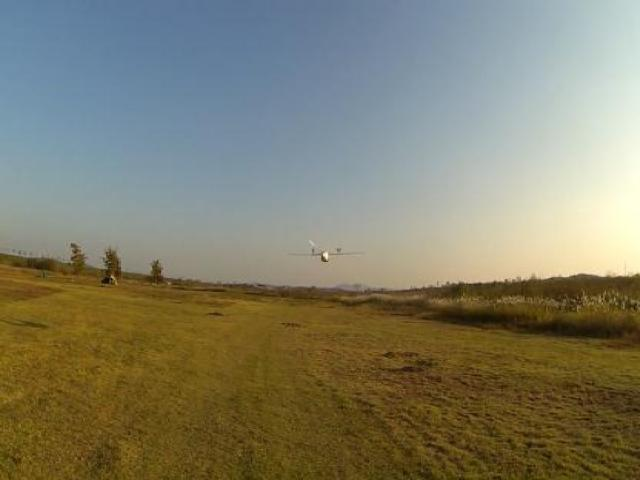uav: (278, 233, 370, 274)
